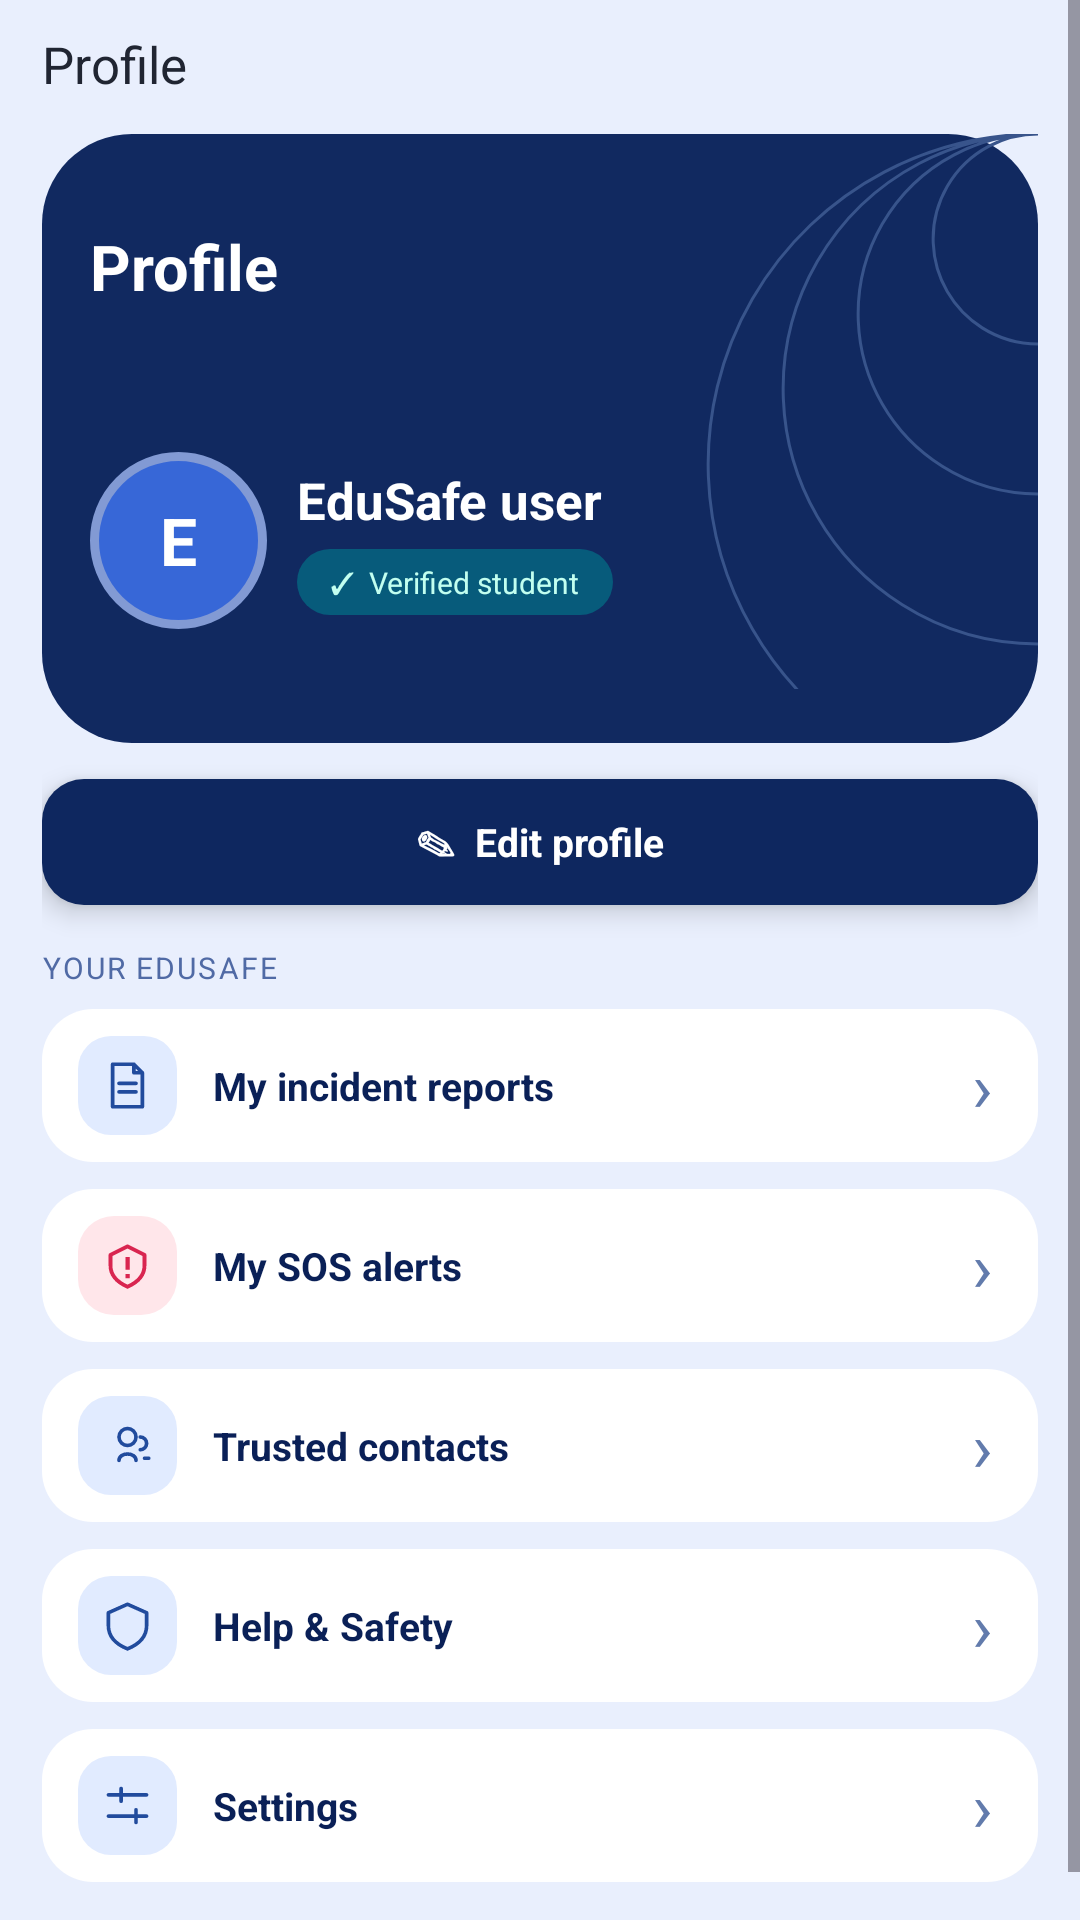

Icon bounding boxes for this 1080 x 1920 phone screenshot, format (x1,y1,x2,y2):
profile contacts: (78,1396,177,1495)
profile report: (78,1036,177,1135)
profile sos alert: (78,1216,177,1315)
